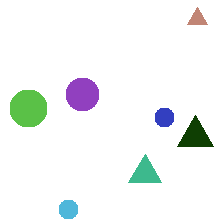circle: (10, 90, 46, 126), (66, 78, 98, 110), (155, 108, 173, 126), (59, 200, 77, 218)
triangle: (177, 115, 213, 146), (128, 154, 161, 182), (187, 7, 207, 24)
